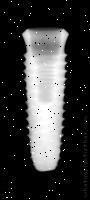Cowellmedi: (17, 28, 69, 174)
